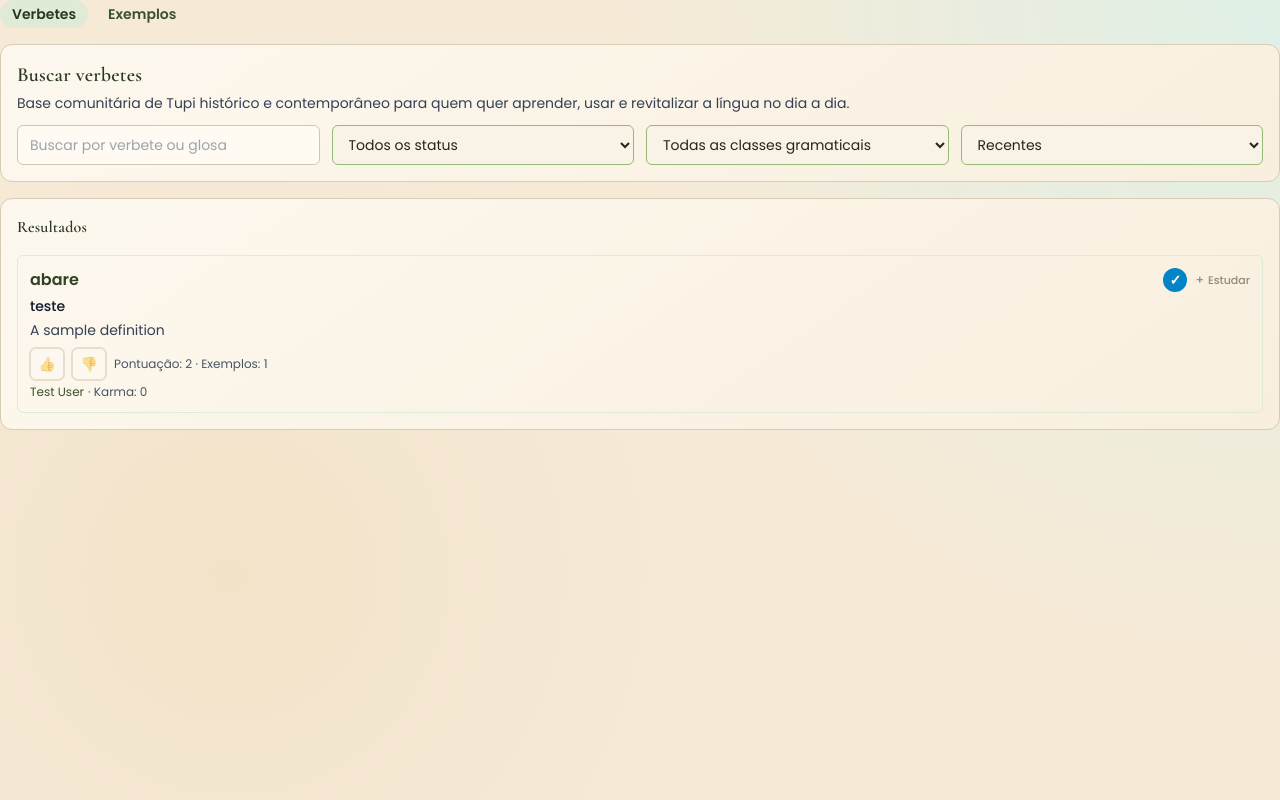
Test: EntriesPage › sends the canonical apostrophe when searching from a mobile keyboard
Expected: the link "abare" is shown, [30,268,79,292]
Type "a’e" into the field at (168,145), box [17,125,320,165]
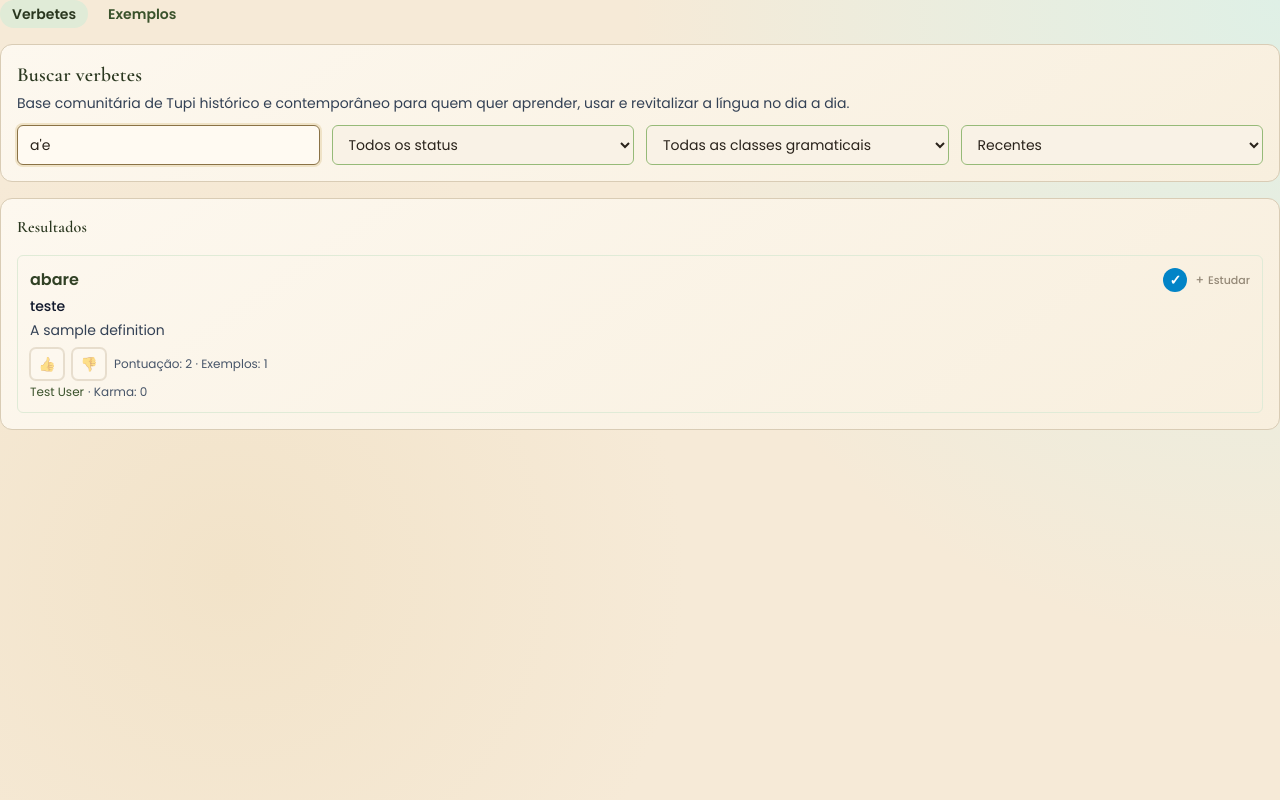
Now the field holds "a'e", box [17,125,320,165]
